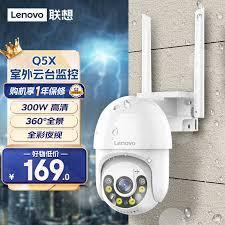maru: (90, 92, 175, 220)
